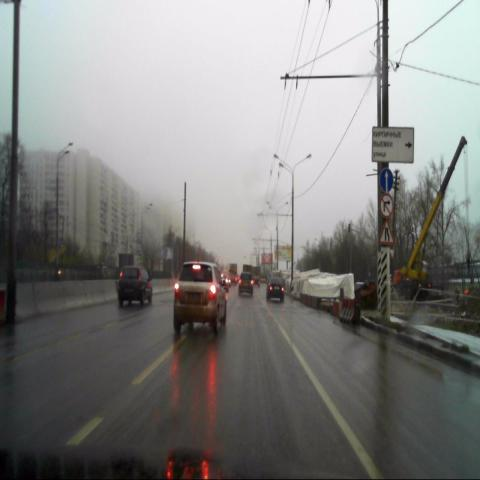3_18: (379, 194, 393, 217)
